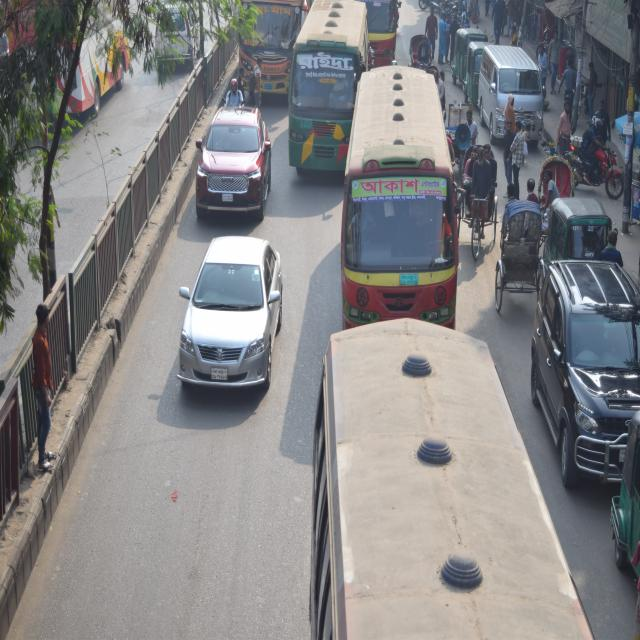bus: (315, 308, 549, 640), (343, 66, 457, 322), (289, 1, 363, 175), (235, 0, 298, 100), (364, 0, 398, 65)
car: (529, 260, 640, 487), (174, 228, 284, 407), (195, 102, 268, 230)
microbus: (476, 41, 540, 138)
motorbike: (560, 113, 620, 200)
